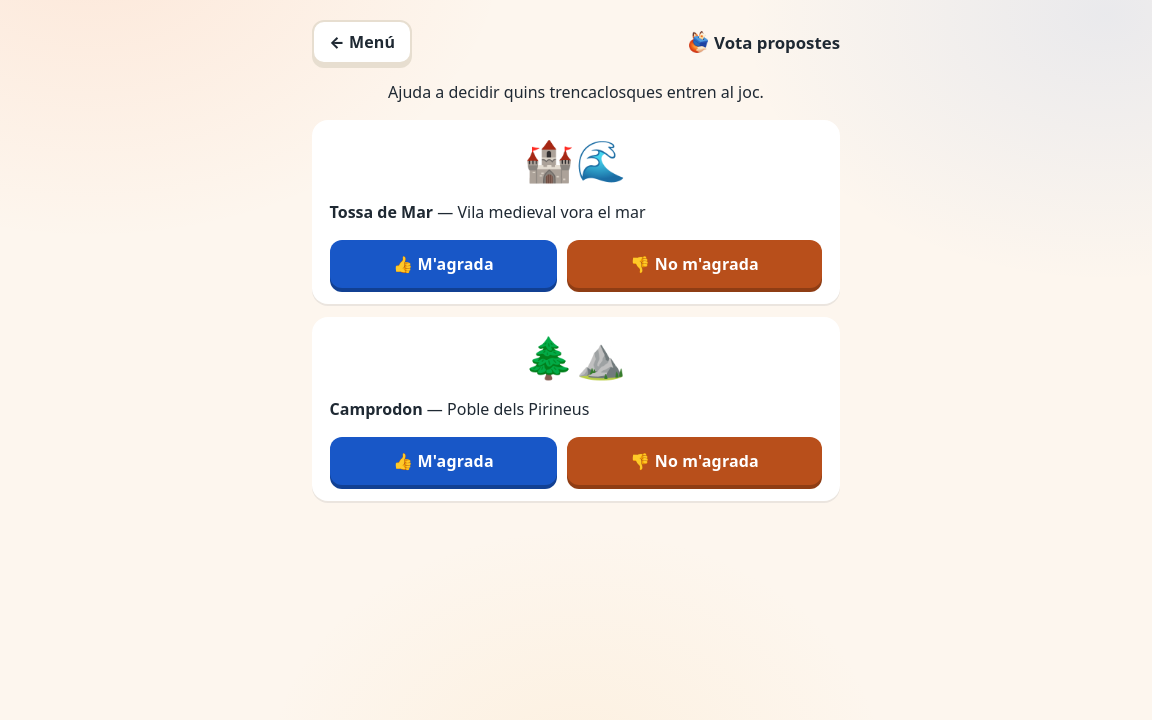
Test: VoteScreen component › permet votar a favor i actualitza el recompte i localStorage
Expected: the text "Tossa de Mar" is shown, [330, 201, 433, 223]
Click the button "👍 M'agrada" below "Tossa de Mar" at x=443, y=264, box [330, 240, 557, 288]
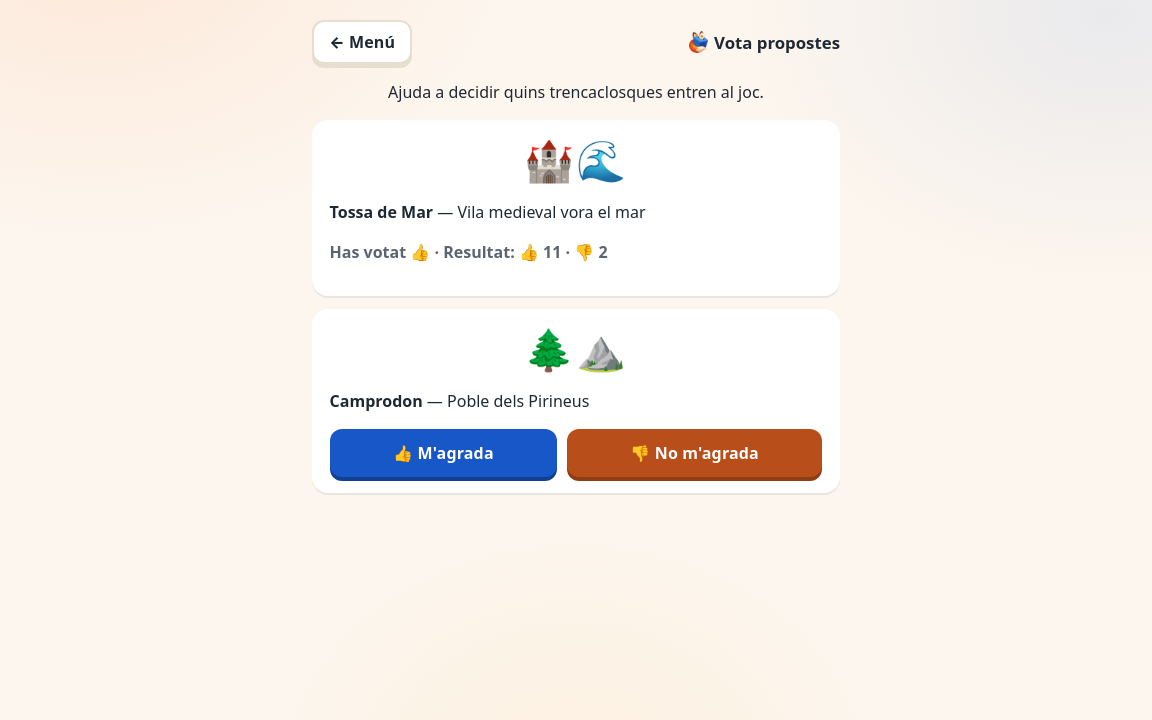
Expected: the text "Has votat 👍 · Resultat: 👍 11 · 👎 2" is shown, [330, 241, 608, 263]
